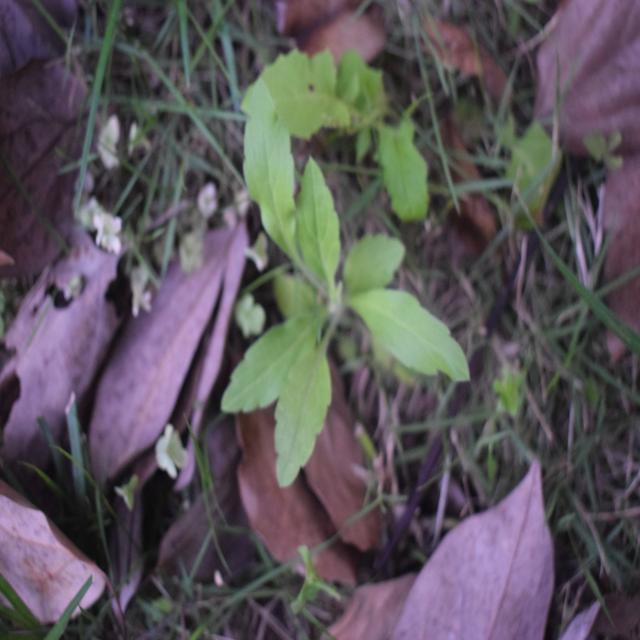horseweed: (212, 122, 456, 480)
